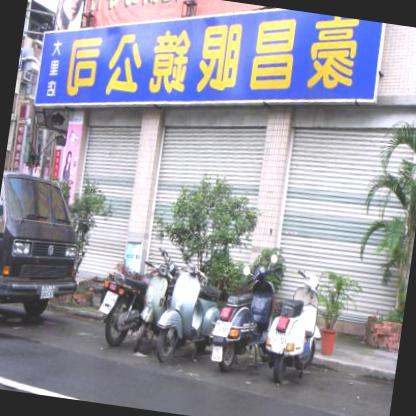motorcycle: (94, 242, 179, 352), (258, 288, 326, 391)
